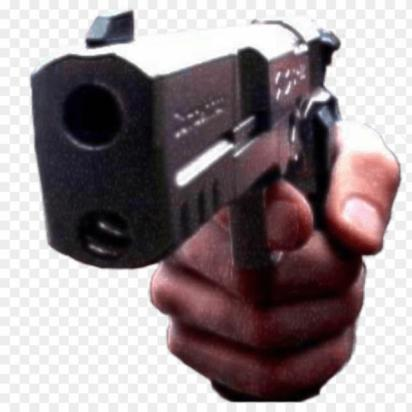Gun: (6, 6, 349, 412)
